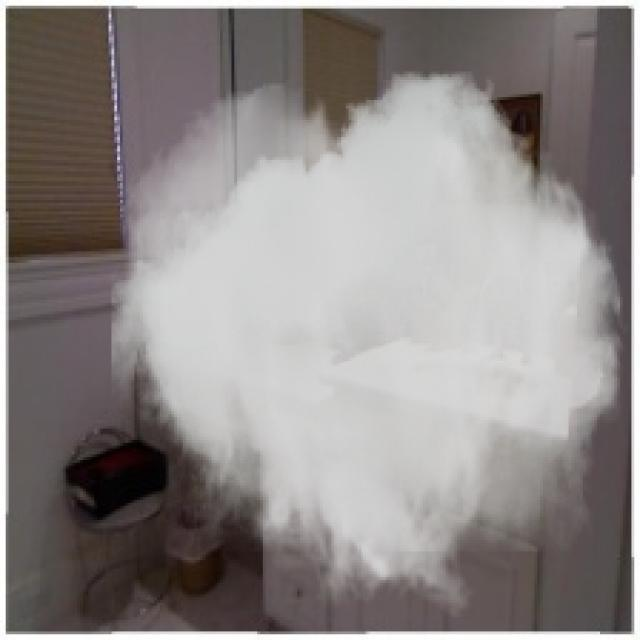Smoke: (111, 71, 628, 620)
